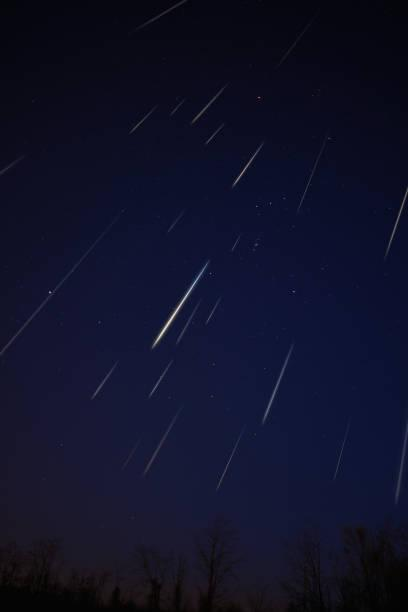meteor: (133, 22, 148, 37), (389, 495, 403, 506), (331, 471, 341, 485), (125, 127, 137, 137), (149, 339, 159, 351), (188, 117, 198, 127), (294, 205, 304, 214), (141, 468, 151, 477), (281, 53, 290, 61), (175, 338, 184, 346), (212, 485, 220, 494), (88, 394, 96, 402), (229, 182, 239, 188), (165, 228, 173, 235), (119, 464, 126, 472), (203, 319, 210, 326), (261, 416, 268, 423), (230, 245, 236, 253), (168, 112, 175, 118), (205, 138, 211, 145)
